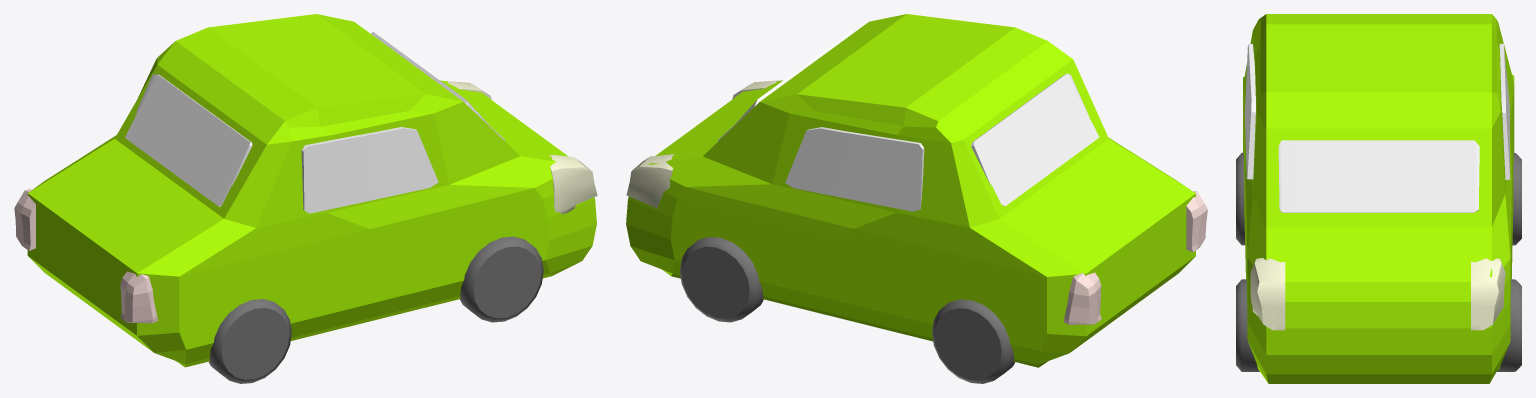
File: CarroVerde.fbx
3 renders of one model, left to right at view 1: azimuth 30°, elevation 25°; view 2: azimuth 150°, elevation 25°; view 3: azimuth 270°, elevation 25°, orthographic. The views are drawn at different scales.
Parts seen in each view (by area): view 1: pCube1, pCube10, pCube8, pCylinder1, pCylinder2, pCube11, pCube9, pCube6; view 2: pCube1, pCube10, pCube12, pCylinder3, pCylinder4, pCube11, pCube9, pCube6; view 3: pCube1, pCube6, pCube9, pCube8, pCylinder1, pCylinder3, pCube12, pCylinder4, pCylinder2.
Boxes of the visible parts, left/top/right/bottom form: pCube1: left=27, top=14, right=596, bottom=367; pCube10: left=125, top=74, right=252, bottom=206; pCube8: left=301, top=127, right=438, bottom=213; pCylinder1: left=460, top=236, right=543, bottom=322; pCylinder2: left=209, top=299, right=291, bottom=383; pCube11: left=14, top=188, right=158, bottom=323; pCube9: left=445, top=81, right=597, bottom=214; pCube6: left=371, top=31, right=505, bottom=140; pCube1: left=626, top=14, right=1195, bottom=367; pCube10: left=971, top=73, right=1099, bottom=206; pCube12: left=785, top=127, right=924, bottom=211; pCylinder3: left=680, top=237, right=763, bottom=322; pCylinder4: left=932, top=299, right=1015, bottom=383; pCube11: left=1063, top=191, right=1207, bottom=324; pCube9: left=626, top=80, right=781, bottom=208; pCube6: left=717, top=31, right=853, bottom=141; pCube1: left=1243, top=14, right=1514, bottom=383; pCube6: left=1278, top=140, right=1479, bottom=212; pCube9: left=1250, top=257, right=1505, bottom=330; pCube8: left=1244, top=44, right=1255, bottom=179; pCylinder1: left=1236, top=279, right=1259, bottom=371; pCylinder3: left=1496, top=279, right=1521, bottom=371; pCube12: left=1499, top=43, right=1510, bottom=179; pCylinder4: left=1512, top=153, right=1521, bottom=245; pCylinder2: left=1236, top=152, right=1244, bottom=245.
Size of the model in its own units: 21.67 by 10.94 by 11.09.
